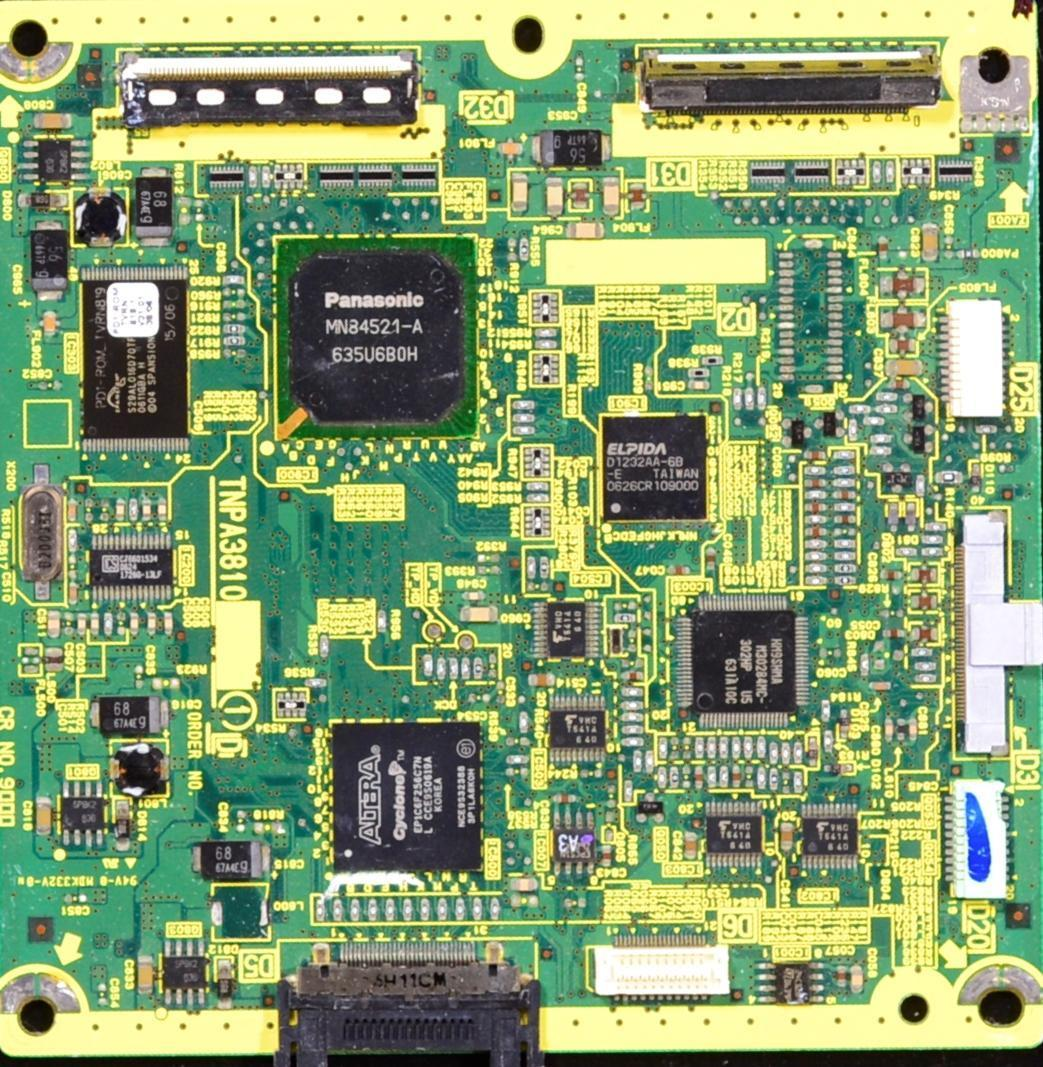Capacitor: (190, 840, 276, 882), (85, 697, 170, 732), (31, 216, 67, 293), (139, 162, 172, 241), (530, 131, 614, 162), (30, 108, 73, 133), (135, 955, 156, 1000), (883, 358, 925, 380), (31, 796, 53, 837), (921, 221, 940, 268), (509, 170, 529, 214), (457, 605, 500, 625), (545, 175, 563, 219), (604, 175, 622, 217), (563, 222, 603, 238), (505, 878, 540, 896), (778, 821, 794, 850), (46, 609, 60, 641), (833, 964, 850, 988), (684, 832, 698, 861), (131, 664, 147, 689), (74, 611, 88, 639), (155, 498, 170, 524), (852, 965, 866, 992), (43, 309, 57, 335), (466, 692, 492, 706), (139, 499, 154, 523), (944, 232, 955, 264), (529, 672, 556, 685), (494, 682, 507, 709), (233, 808, 247, 833), (115, 498, 127, 527), (868, 679, 892, 693), (261, 162, 272, 191), (705, 547, 717, 573), (145, 613, 157, 639), (877, 237, 891, 259), (460, 590, 488, 601), (162, 608, 173, 636), (687, 380, 712, 392), (877, 569, 904, 580), (248, 162, 258, 191), (832, 488, 856, 500), (67, 554, 79, 578), (883, 721, 895, 745), (692, 766, 704, 790), (601, 845, 613, 869), (90, 611, 101, 637), (192, 198, 204, 221), (803, 449, 828, 460), (67, 498, 78, 523), (908, 716, 918, 743), (66, 580, 77, 604), (804, 502, 830, 512), (831, 514, 857, 524), (731, 764, 741, 790), (663, 565, 690, 574), (883, 628, 905, 639), (620, 673, 644, 683), (803, 480, 828, 489), (802, 527, 827, 536), (130, 611, 138, 638), (98, 982, 106, 1008)
Connector: (631, 39, 946, 112), (121, 51, 420, 118), (961, 513, 1041, 763), (589, 933, 730, 1005), (943, 775, 1020, 903), (945, 303, 1014, 419)
IC: (275, 237, 477, 439), (327, 717, 485, 874), (78, 268, 193, 453), (671, 598, 811, 723), (602, 418, 710, 524), (85, 535, 169, 606), (548, 689, 605, 763), (531, 599, 598, 659), (706, 803, 764, 871), (800, 804, 860, 869), (59, 781, 105, 851), (546, 807, 593, 874), (753, 961, 825, 1001)
Resistor: (22, 139, 91, 184), (715, 735, 733, 761), (152, 675, 180, 691), (178, 197, 192, 228), (934, 471, 963, 485), (126, 498, 140, 525), (254, 821, 281, 835), (509, 896, 543, 907), (422, 652, 434, 683), (803, 562, 831, 575), (435, 652, 448, 680), (755, 732, 769, 758), (526, 552, 537, 583), (530, 327, 558, 339), (511, 396, 535, 410), (847, 417, 860, 442), (820, 700, 833, 725), (692, 736, 705, 761), (744, 734, 756, 761), (914, 472, 928, 495), (871, 157, 884, 181), (833, 449, 857, 462), (880, 607, 906, 619), (531, 338, 556, 350), (319, 633, 331, 658), (487, 651, 497, 681), (767, 740, 779, 765), (506, 755, 531, 767), (538, 554, 551, 577), (519, 234, 530, 261), (510, 413, 537, 424), (803, 465, 830, 476), (613, 600, 640, 611), (377, 609, 388, 636), (769, 765, 779, 794), (505, 238, 517, 262), (869, 445, 893, 457), (63, 613, 75, 637), (858, 653, 870, 677), (913, 672, 937, 684), (730, 733, 742, 757), (632, 749, 644, 773), (680, 764, 692, 788), (605, 783, 617, 807), (102, 612, 115, 634), (885, 158, 895, 186), (222, 300, 245, 312), (755, 387, 767, 410), (876, 403, 899, 415), (756, 766, 768, 789), (792, 769, 804, 792), (681, 734, 692, 759), (706, 734, 717, 759), (706, 765, 717, 790), (98, 501, 111, 522), (473, 653, 483, 680), (733, 385, 744, 409), (863, 414, 887, 425), (834, 563, 856, 575), (478, 564, 502, 575), (621, 700, 645, 711), (719, 765, 730, 789), (667, 766, 678, 790), (746, 387, 756, 413), (524, 493, 550, 503), (83, 497, 93, 523), (925, 522, 948, 533), (479, 552, 502, 563), (803, 553, 826, 564), (824, 731, 835, 754), (780, 769, 791, 792), (218, 277, 246, 286), (221, 313, 246, 323), (685, 369, 710, 379), (833, 539, 858, 549), (914, 661, 936, 672), (792, 742, 803, 764), (221, 288, 245, 298), (802, 537, 826, 547), (909, 647, 933, 657), (448, 656, 458, 680), (702, 357, 723, 368), (670, 736, 681, 757), (874, 392, 897, 402), (626, 630, 636, 653), (622, 687, 645, 697), (656, 766, 666, 789), (68, 529, 77, 554), (921, 548, 946, 557), (833, 551, 858, 560), (117, 611, 126, 636), (834, 478, 856, 488), (804, 515, 826, 525), (509, 767, 531, 777), (513, 426, 537, 435), (921, 535, 945, 544), (803, 575, 827, 584), (613, 614, 637, 623), (848, 404, 869, 414), (621, 712, 647, 720), (527, 482, 550, 491), (621, 738, 644, 747), (645, 749, 654, 772), (833, 528, 858, 536), (463, 657, 471, 682), (304, 678, 329, 686), (620, 726, 645, 734), (746, 763, 754, 788), (622, 780, 632, 800), (782, 743, 791, 765), (226, 336, 245, 346), (806, 490, 827, 499), (657, 736, 666, 757), (868, 434, 890, 442), (835, 576, 856, 584), (223, 325, 246, 332), (896, 550, 916, 558), (830, 464, 852, 471), (833, 503, 854, 510)
Transistor: (165, 936, 206, 1003), (812, 409, 849, 439), (905, 426, 936, 457), (880, 464, 911, 494), (901, 393, 933, 420), (781, 417, 808, 448)
